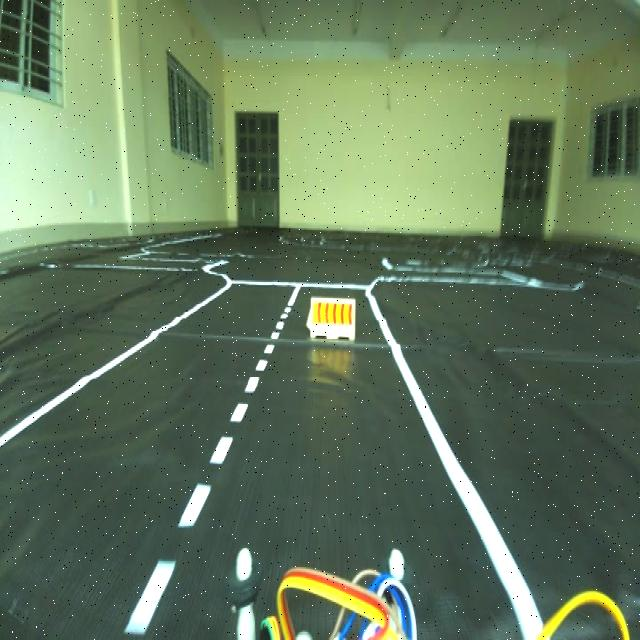roadblock: (304, 280, 360, 355)
